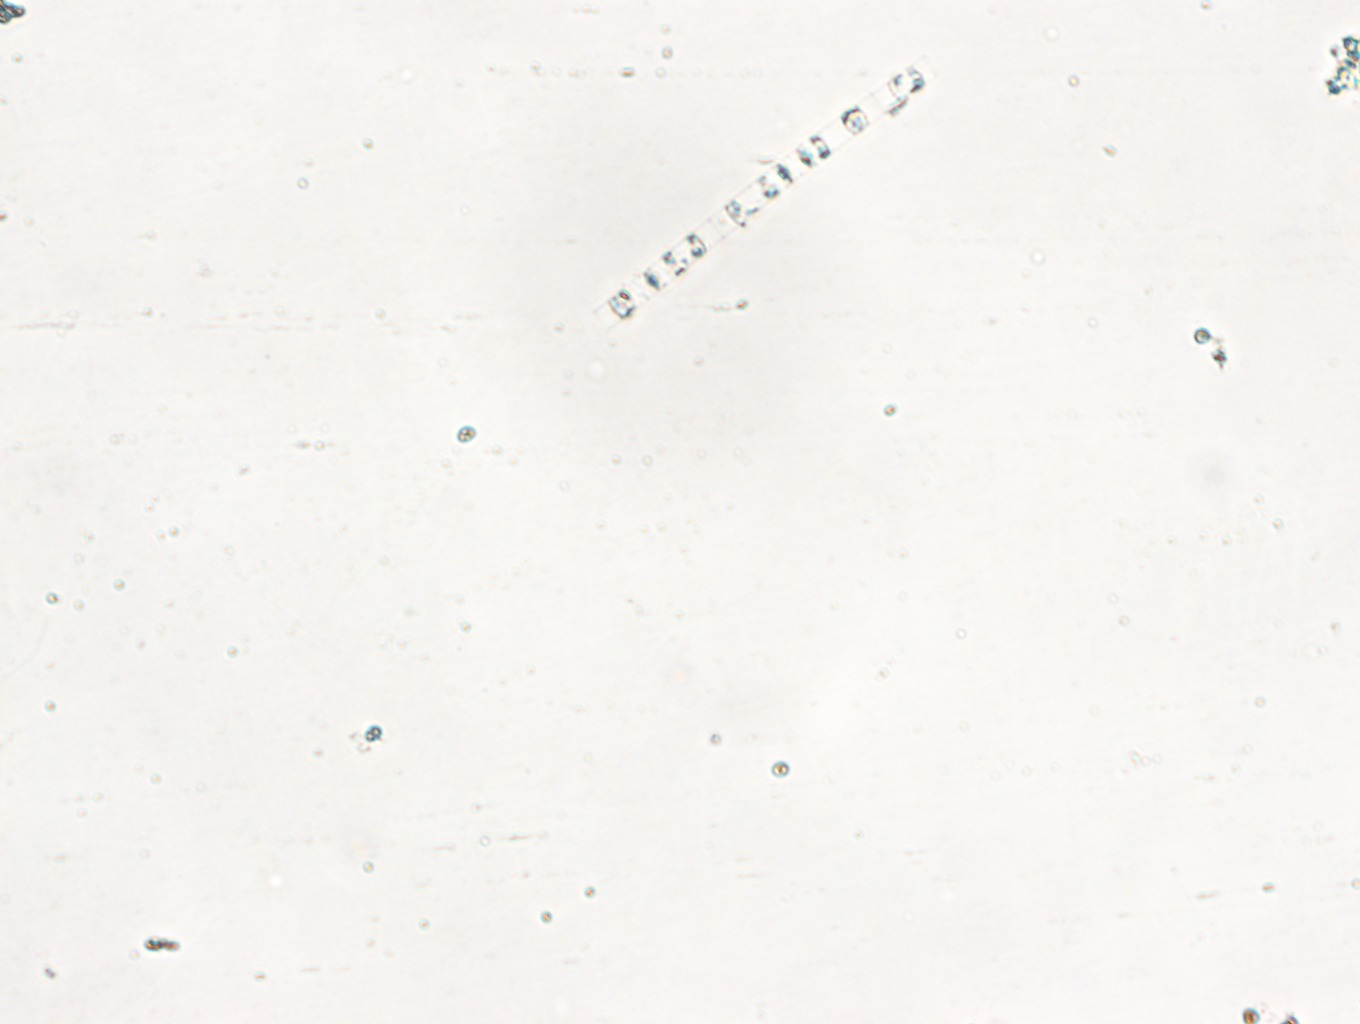skeletonema: (597, 69, 924, 323)
